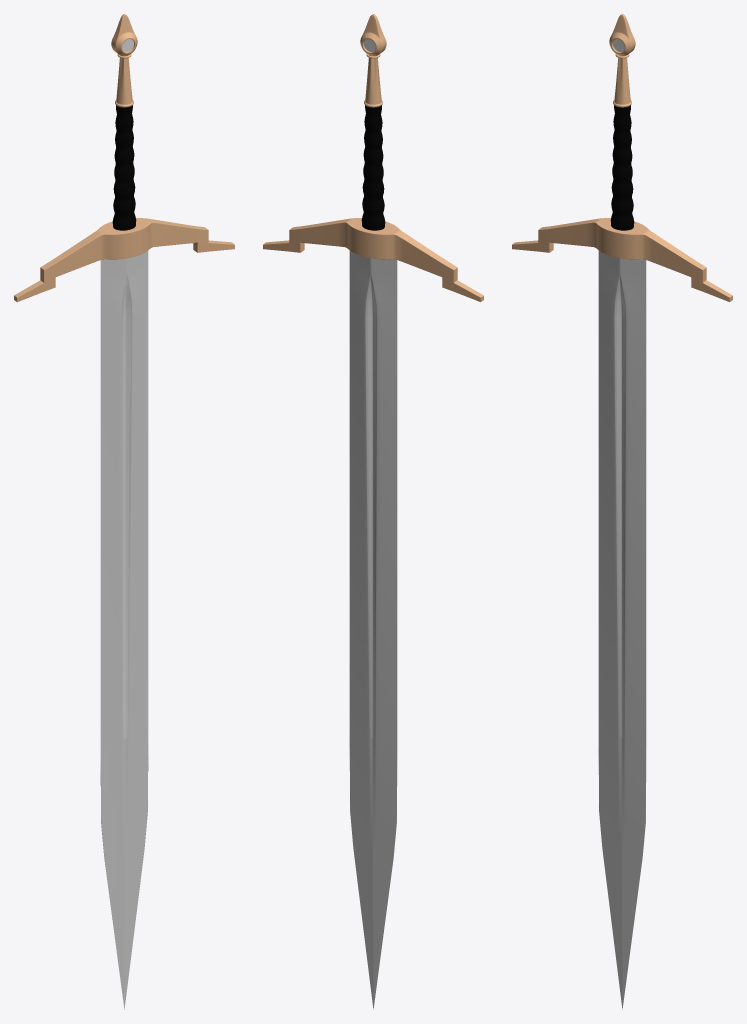
Rendered from Sword 1.21.2021.fbx.
3 views of the same model, side by side, from view 1: azimuth 30°, elevation 25°; view 2: azimuth 150°, elevation 25°; view 3: azimuth 330°, elevation 25° (orthographic).
Parts seen in each view (by area): view 1: Blade, Guard, Handle, Pommel, Long Pommel; view 2: Blade, Guard, Handle, Pommel, Long Pommel; view 3: Blade, Guard, Handle, Pommel, Long Pommel.
Boxes of the visible parts, bbox=[...] form: Blade: bbox=[100, 251, 148, 1009]; Guard: bbox=[14, 218, 234, 302]; Handle: bbox=[112, 105, 136, 230]; Pommel: bbox=[111, 14, 137, 56]; Long Pommel: bbox=[115, 54, 133, 107]; Blade: bbox=[349, 251, 397, 1009]; Guard: bbox=[263, 218, 483, 302]; Handle: bbox=[361, 105, 385, 230]; Pommel: bbox=[360, 14, 386, 56]; Long Pommel: bbox=[364, 54, 382, 107]; Blade: bbox=[598, 251, 646, 1009]; Guard: bbox=[512, 218, 732, 302]; Handle: bbox=[610, 105, 634, 230]; Pommel: bbox=[609, 14, 635, 56]; Long Pommel: bbox=[613, 54, 631, 107].
Bounding box in the file's own units: 36.35 × 159 × 4.68.
